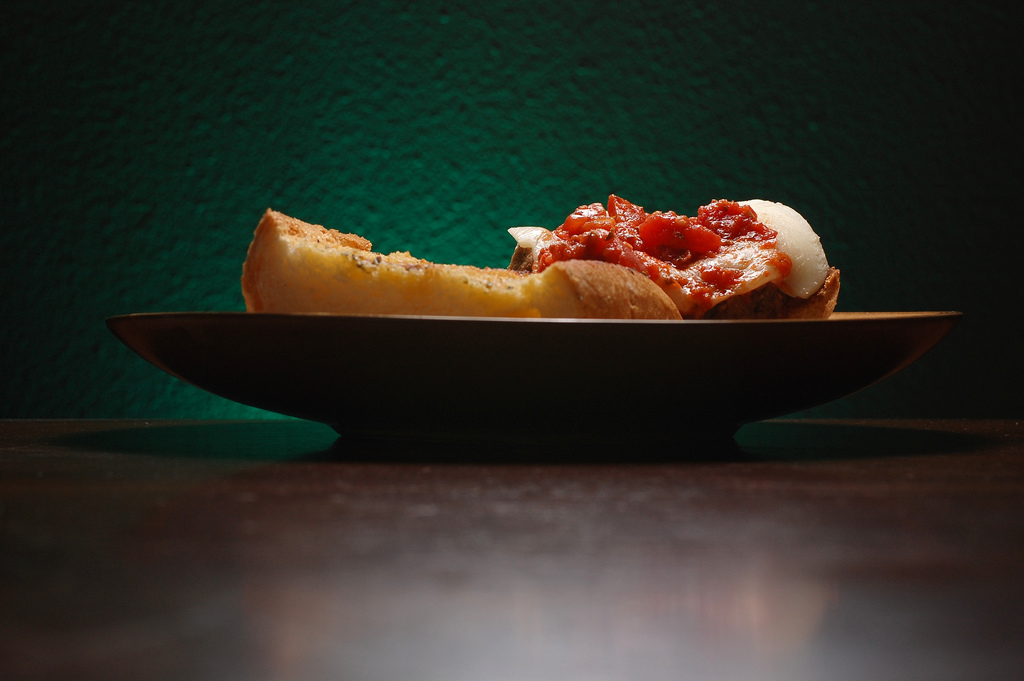slice of bread: (240, 229, 563, 301)
